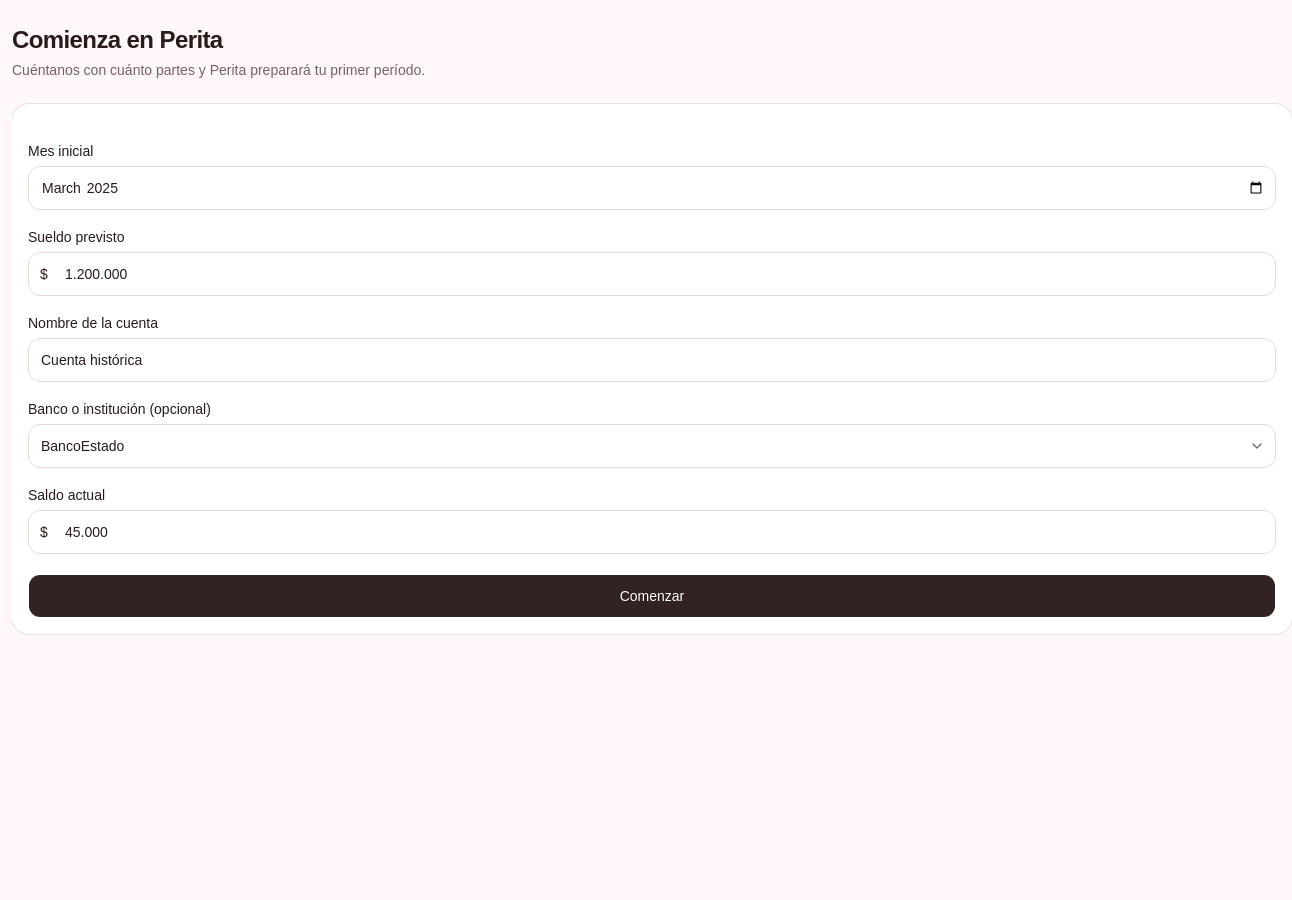
SetupPage › keeps the form available when direct completion fails
Click the button "Comenzar": (652, 596) x1=28 y1=574 x2=1276 y2=618
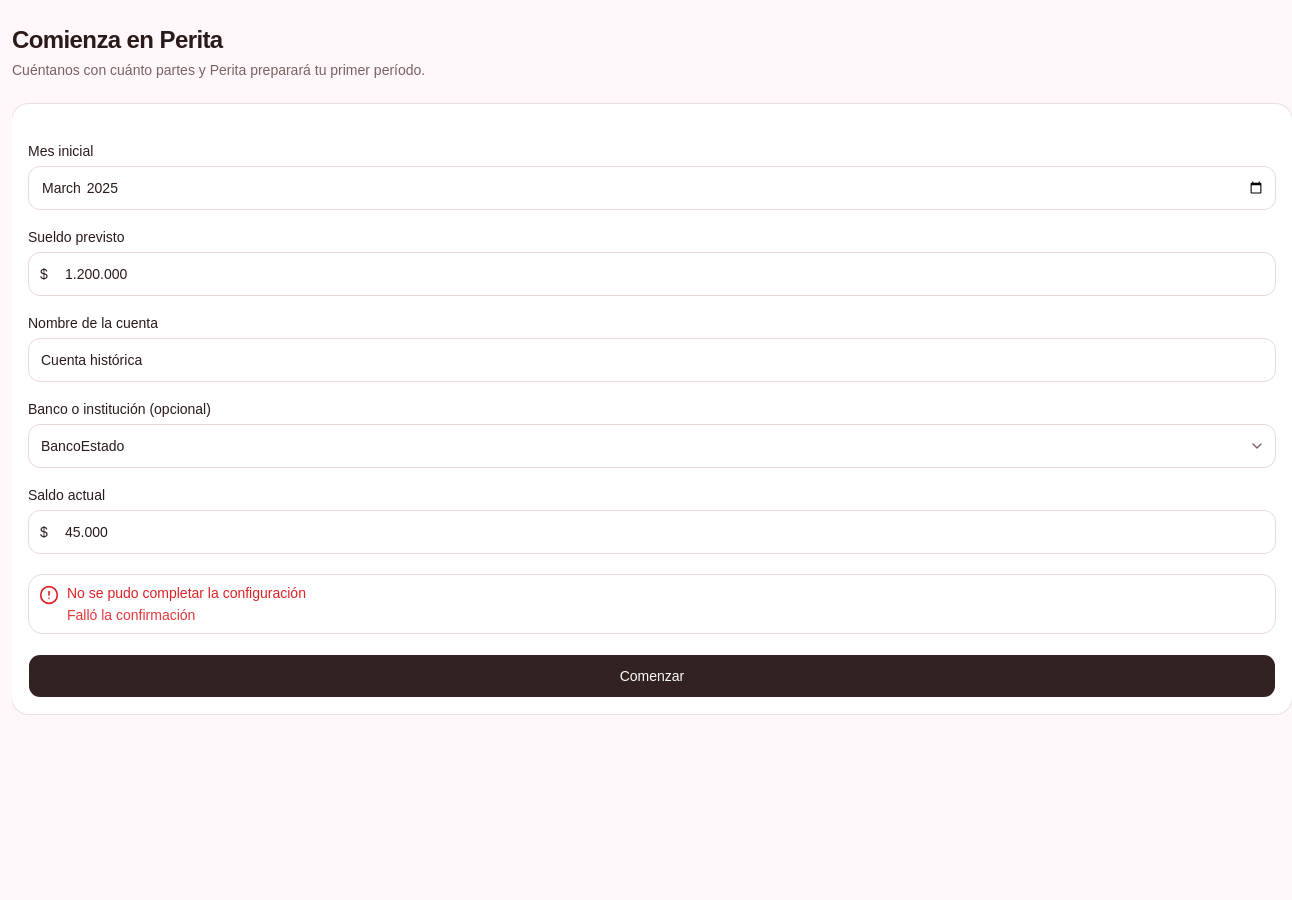
Expected: the field labelled "Nombre de la cuenta" holds "Cuenta histórica", x1=28 y1=338 x2=1276 y2=382
Expected: the text "Falló la confirmación" is shown, x1=67 y1=607 x2=195 y2=623
